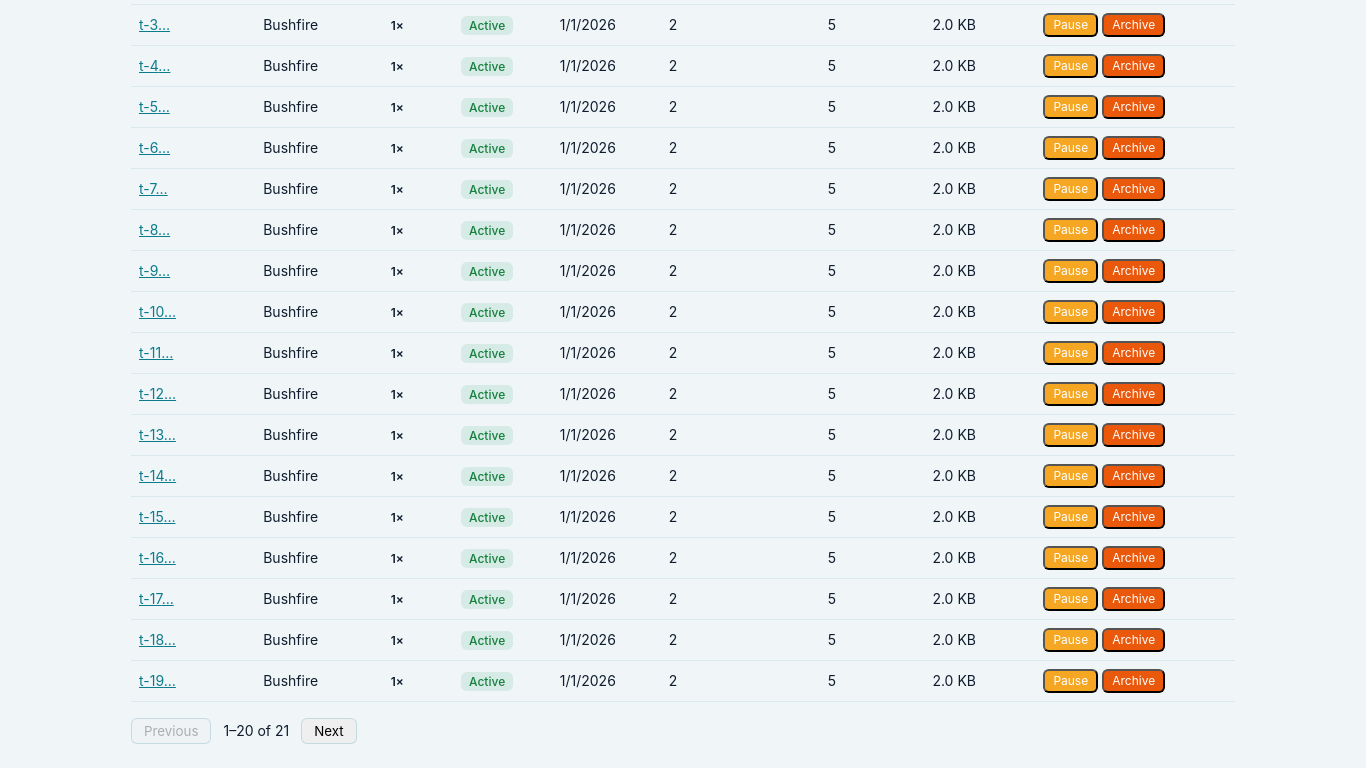
Test: SimulationListPage › paginates with real limit/offset requests and reports the visible range
(page scrolled)
Check: the text with test id "sim-page-range" reads "1–20 of 21", box [224, 721, 289, 741]
Check: the button with test id "sim-page-prev" is disabled, box [131, 718, 212, 744]
Click the button with test id "sim-page-next". click: (329, 731)
box: [301, 718, 357, 744]
(page scrolled)
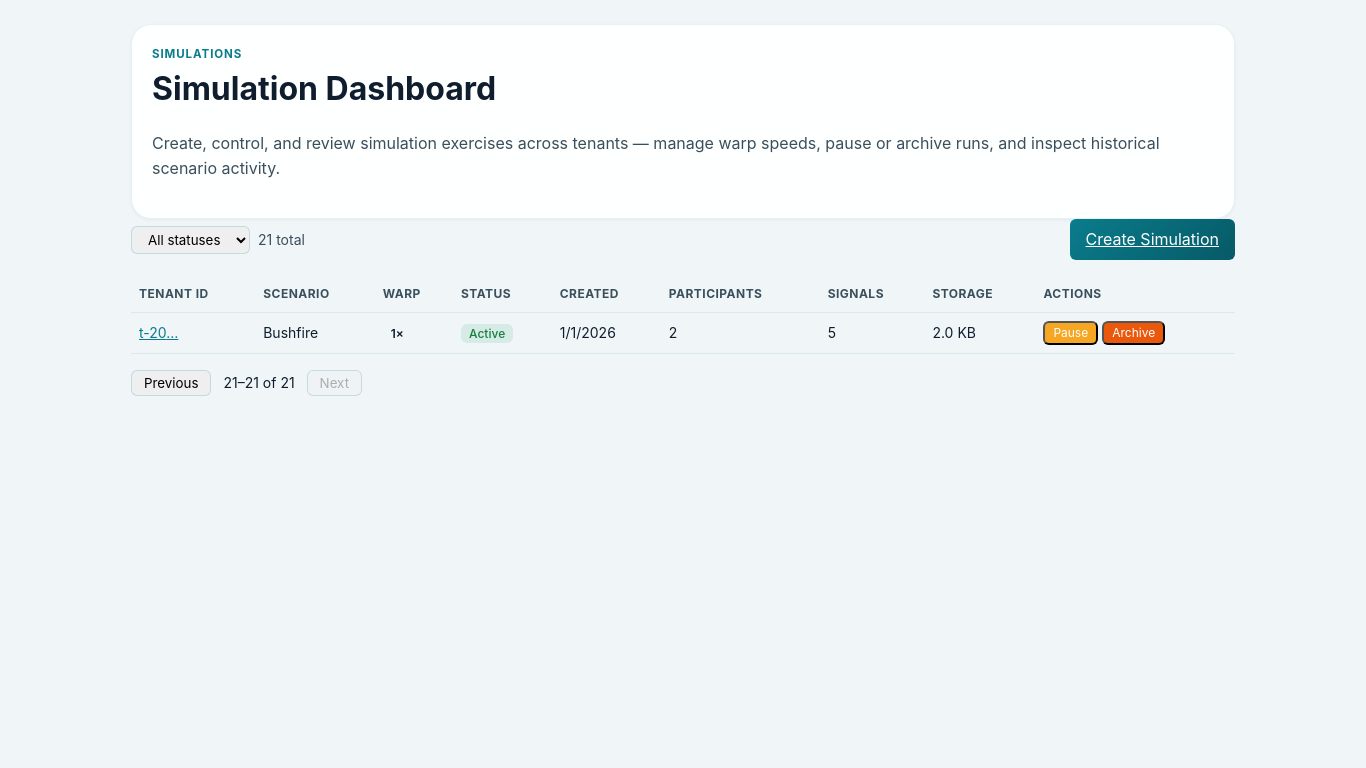
Check: the text with test id "sim-page-range" reads "21–21 of 21", box [224, 373, 295, 393]
Check: the button with test id "sim-page-next" is disabled, box [307, 370, 362, 396]
Check: the button with test id "sim-page-prev" is enabled, box [131, 370, 212, 396]
